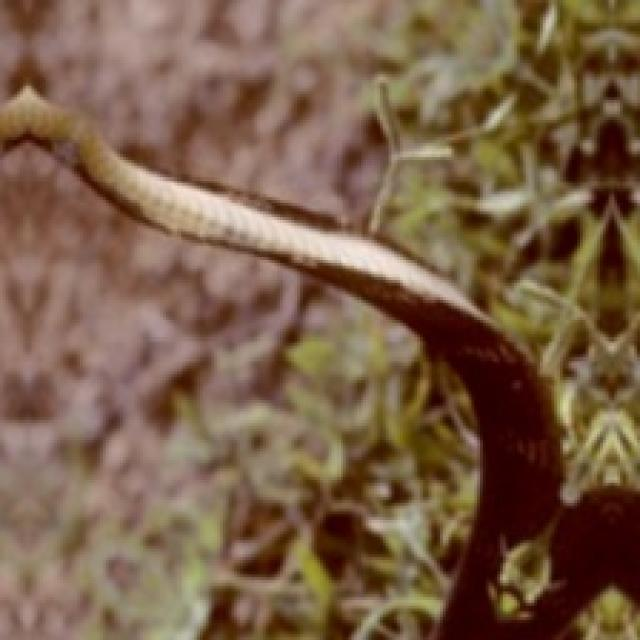king cobra: (0, 86, 637, 637)
